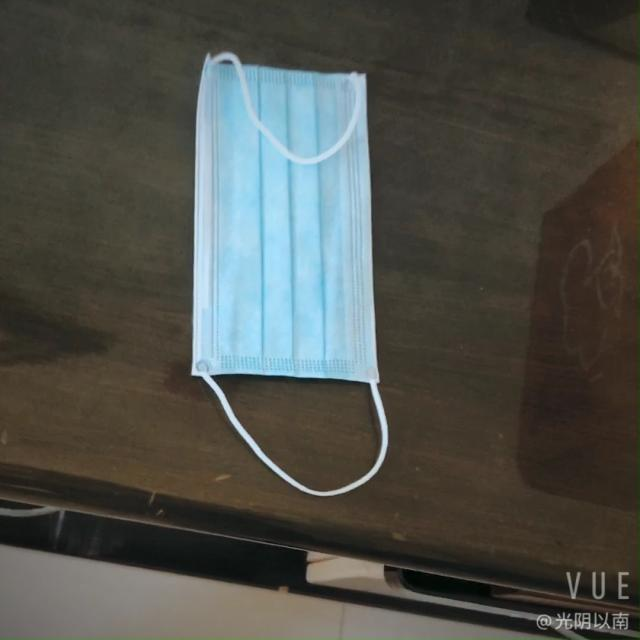face mask: (161, 54, 381, 402)
